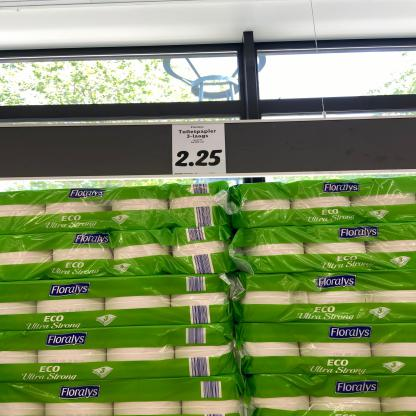prtg: (173, 125, 227, 176)
